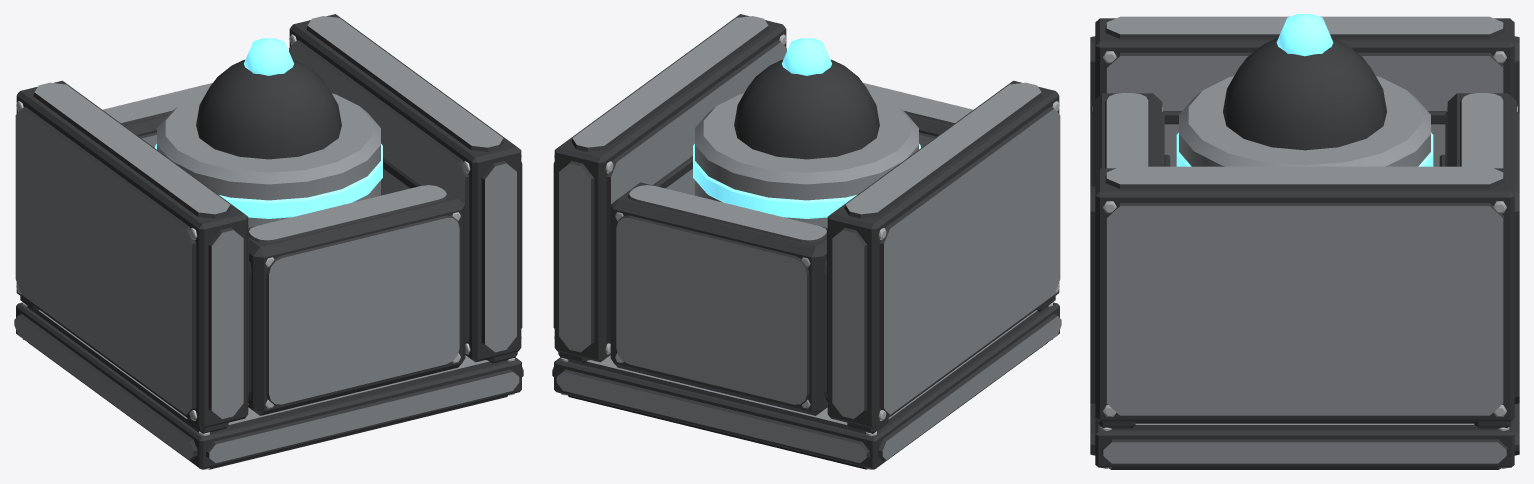
Rendered from R4X_DeployableShieldGenerator.fbx.
3 views of the same model, side by side, from view 1: azimuth 30°, elevation 25°; view 2: azimuth 150°, elevation 25°; view 3: azimuth 270°, elevation 25° (orthographic). The views are drawn at different scales.
Visible parts, largest first — view 1: R4X_DeployableShieldGenerator_Body, R4X_DeployableShieldGenerator_Payload; view 2: R4X_DeployableShieldGenerator_Body, R4X_DeployableShieldGenerator_Payload; view 3: R4X_DeployableShieldGenerator_Body, R4X_DeployableShieldGenerator_Payload.
Part boxes in pixels (bbox=[...]): R4X_DeployableShieldGenerator_Body: bbox=[14, 14, 523, 469]; R4X_DeployableShieldGenerator_Payload: bbox=[155, 38, 382, 227]; R4X_DeployableShieldGenerator_Body: bbox=[552, 14, 1061, 469]; R4X_DeployableShieldGenerator_Payload: bbox=[693, 38, 920, 227]; R4X_DeployableShieldGenerator_Body: bbox=[1090, 16, 1519, 469]; R4X_DeployableShieldGenerator_Payload: bbox=[1176, 14, 1433, 166].
Bounding box in the file's own units: 0.52 × 0.495 × 0.52.
